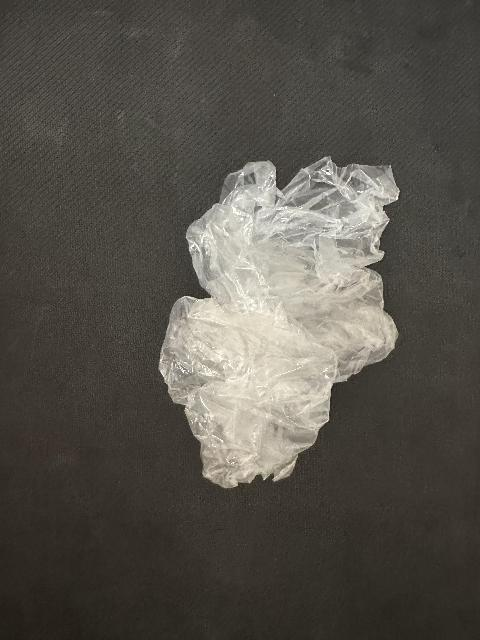Plastik: (168, 149, 400, 483)
